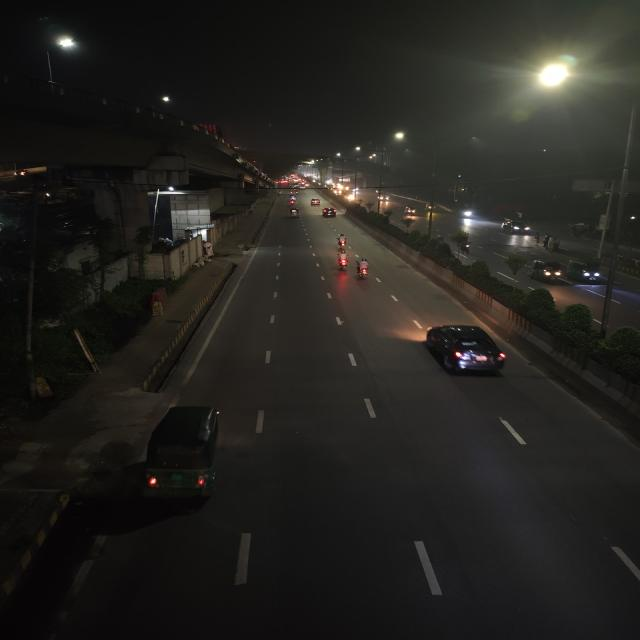car: (417, 320, 518, 384), (500, 218, 535, 236), (321, 206, 338, 218), (310, 198, 323, 206)
cng: (137, 401, 231, 515), (524, 258, 564, 284), (573, 260, 610, 284), (402, 205, 417, 217), (287, 208, 302, 218), (424, 203, 436, 214)
motorcycle: (333, 247, 352, 272), (354, 256, 372, 282), (332, 231, 350, 249), (289, 198, 297, 206)
pedestrian: (545, 236, 555, 252)
